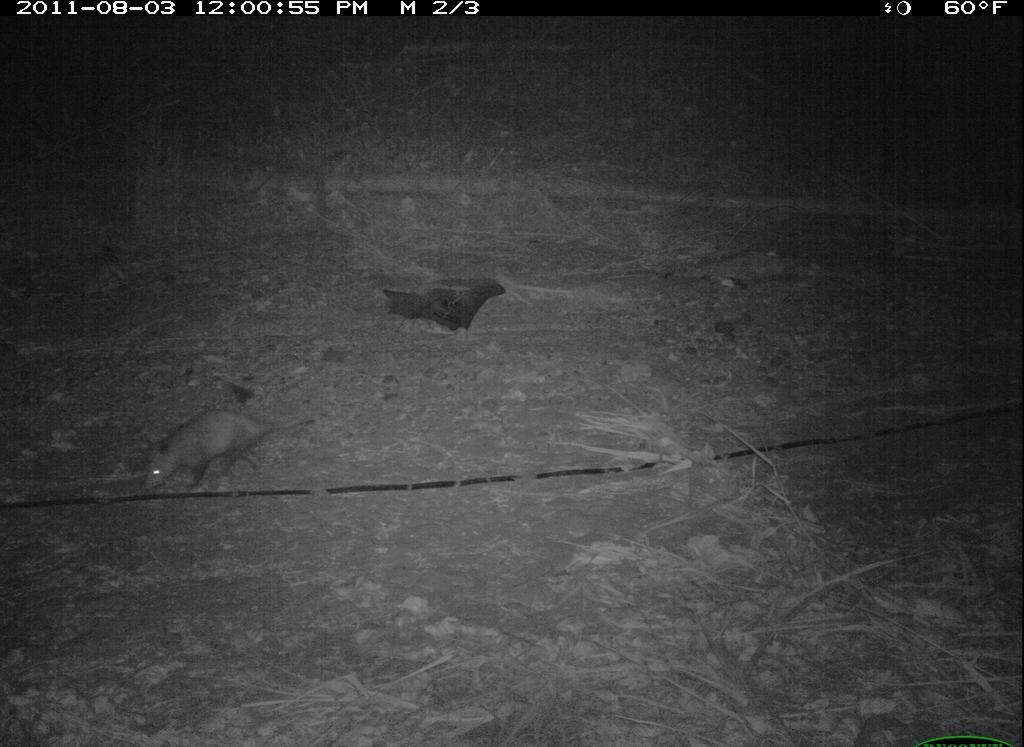opossum: (121, 400, 332, 509)
